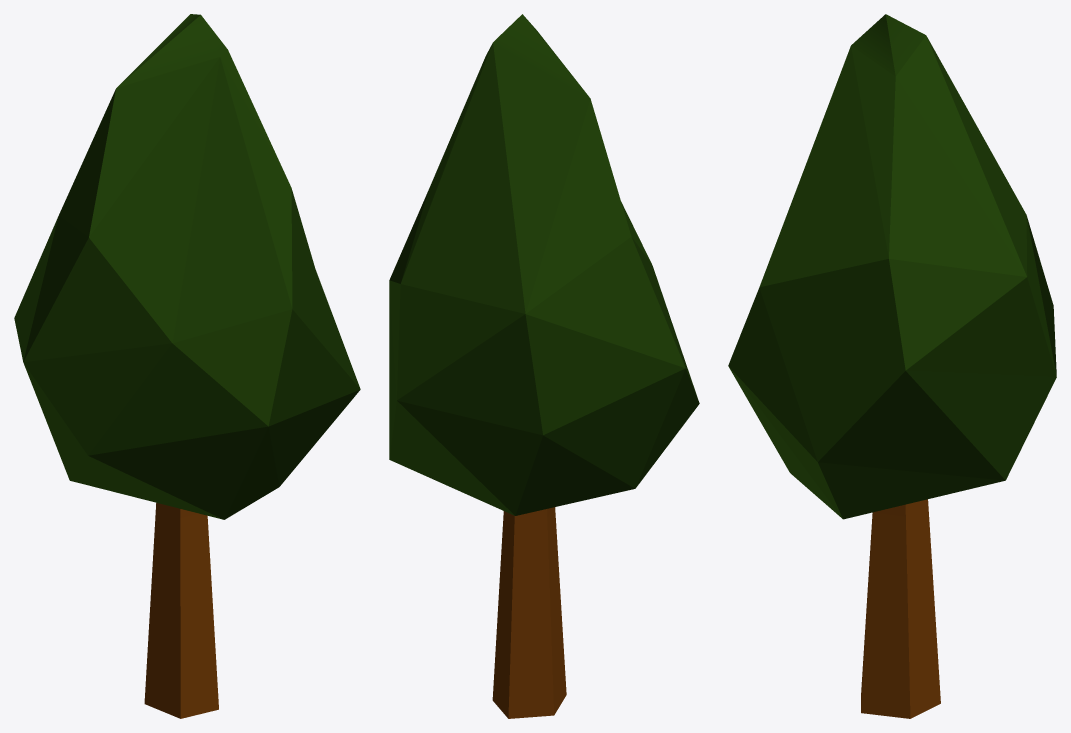
Rendered from tree1_small_Dean.fbx.
The picture shows the model from 3 angles, left to right: view 1: azimuth 30°, elevation 25°; view 2: azimuth 150°, elevation 25°; view 3: azimuth 270°, elevation 25°; orthographic projection. The views are drawn at different scales.
Visible parts, largest first — view 1: Icosphere33, Cylinder3; view 2: Icosphere33, Cylinder3; view 3: Icosphere33, Cylinder3.
Part boxes in pixels (box(x1,y1,x2,y2)): Icosphere33: box(14, 14, 360, 519); Cylinder3: box(144, 503, 218, 718); Icosphere33: box(389, 14, 699, 515); Cylinder3: box(492, 507, 566, 718); Icosphere33: box(728, 14, 1056, 519); Cylinder3: box(861, 499, 940, 718).
Bounding box in the file's own units: 141 × 312 × 133.
